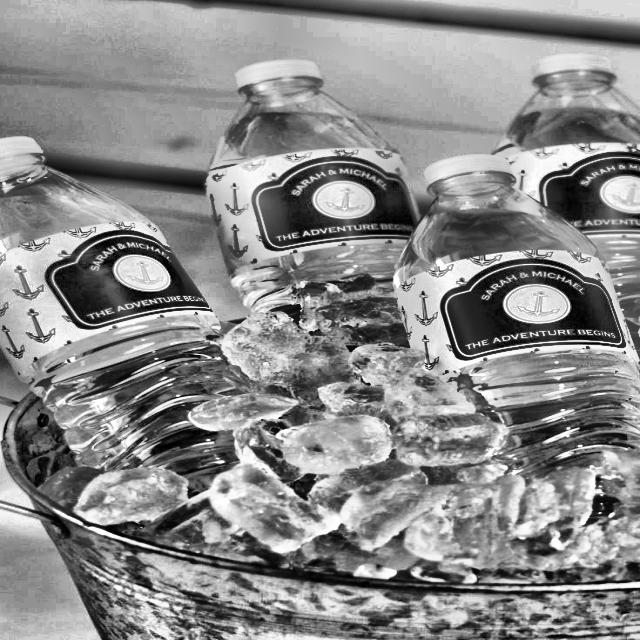waterbottle: (0, 122, 304, 570), (395, 141, 640, 577), (205, 57, 448, 487), (475, 42, 640, 461)
